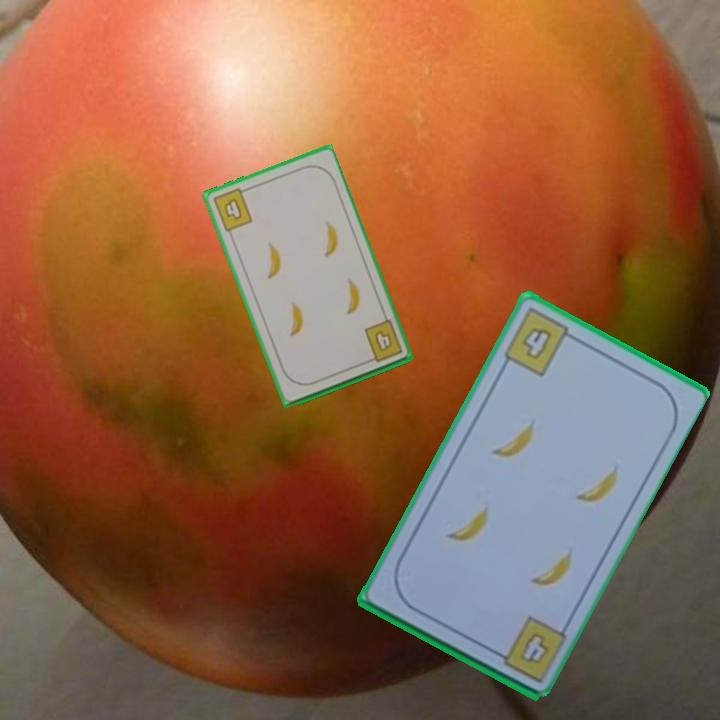4b: (499, 304, 580, 379), (209, 184, 255, 235), (360, 316, 405, 366), (515, 628, 552, 667)
